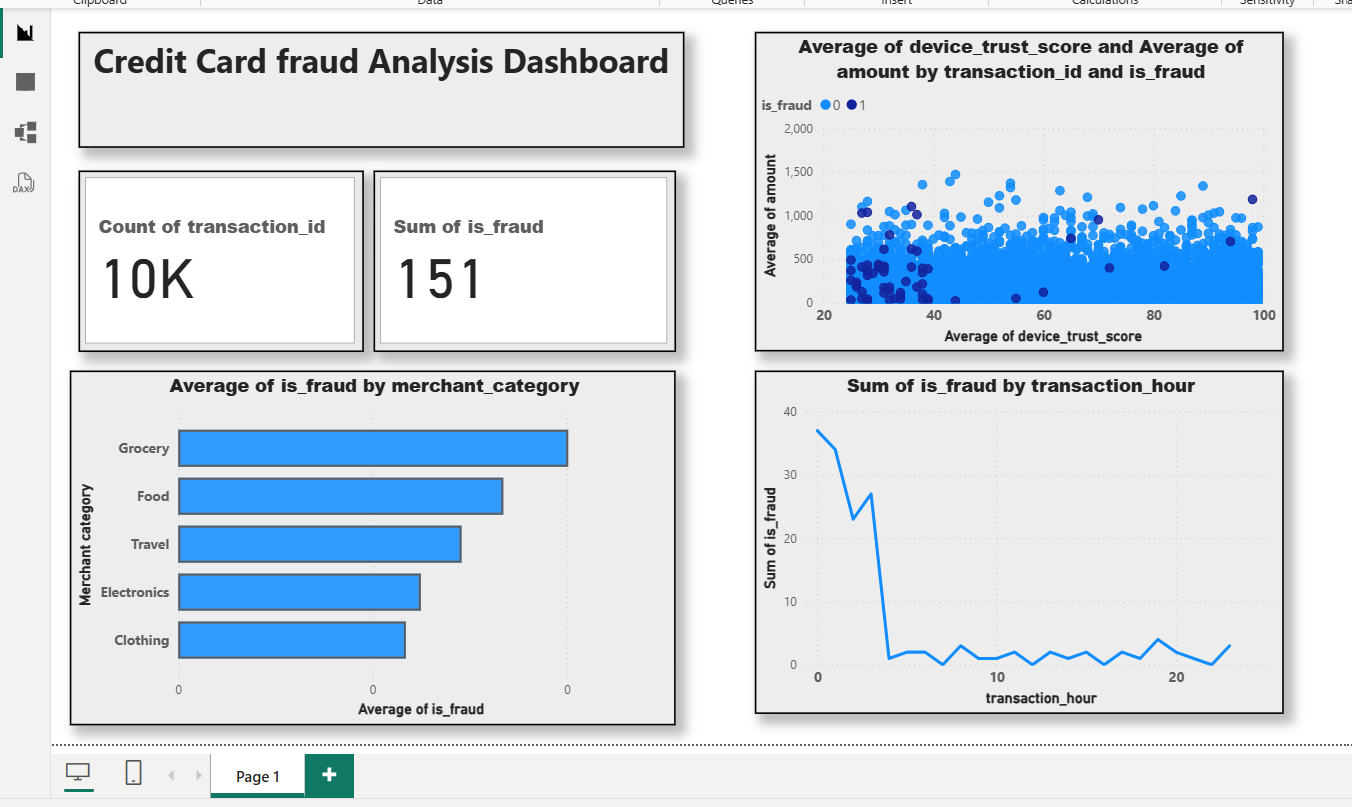

This screenshot's page, from the dashboard's own definition file:
{"tool":"powerbi","page":{"name":"Page 1","canvas":[1280,720],"ordinal":0},"visuals":[{"type":"cardVisual","fields":{"Data":["CountNonNull(credit_card_fraud_cleaned.transaction_id)"]},"box":[26.9,159,278.8,177.3],"z":0},{"type":"cardVisual","fields":{"Data":["Sum(credit_card_fraud_cleaned.is_fraud)"]},"box":[315.5,159,295.9,177.3],"z":1000},{"type":"clusteredBarChart","title":"Average of is_fraud by merchant_category","fields":{"Category":["credit_card_fraud_cleaned.merchant_category"],"Y":["Avg(credit_card_fraud_cleaned.is_fraud)"]},"box":[18.3,354.6,593.1,347.3],"z":2000},{"type":"scatterChart","fields":{"X":["Avg(credit_card_fraud_cleaned.device_trust_score)"],"Y":["Avg(credit_card_fraud_cleaned.amount)"],"Series":["credit_card_fraud_cleaned.is_fraud"],"Category":["credit_card_fraud_cleaned.transaction_id"]},"box":[688.5,23.2,517.3,313],"z":3000},{"type":"lineChart","fields":{"Category":["credit_card_fraud_cleaned.transaction_hour"],"Y":["Sum(credit_card_fraud_cleaned.is_fraud)"]},"box":[688.5,354.6,517.3,336.3],"z":4000},{"type":"textbox","box":[26.9,23.2,593.1,113.7],"z":4001}]}

Visuals, with their boxes in screenshot pixels (x1, y1, x2, y2):
cardVisual - CountNonNull(credit_card_fraud_cleaned.transaction_id): [left=90, top=170, right=371, bottom=348]
cardVisual - Sum(credit_card_fraud_cleaned.is_fraud): [left=380, top=170, right=678, bottom=348]
"Average of is_fraud by merchant_category" clusteredBarChart: [left=82, top=367, right=678, bottom=716]
scatterChart - Avg(credit_card_fraud_cleaned.device_trust_score) x Avg(credit_card_fraud_cleaned.amount): [left=755, top=34, right=1275, bottom=348]
lineChart - credit_card_fraud_cleaned.transaction_hour x Sum(credit_card_fraud_cleaned.is_fraud): [left=755, top=367, right=1275, bottom=705]
textbox: [left=90, top=34, right=686, bottom=148]
